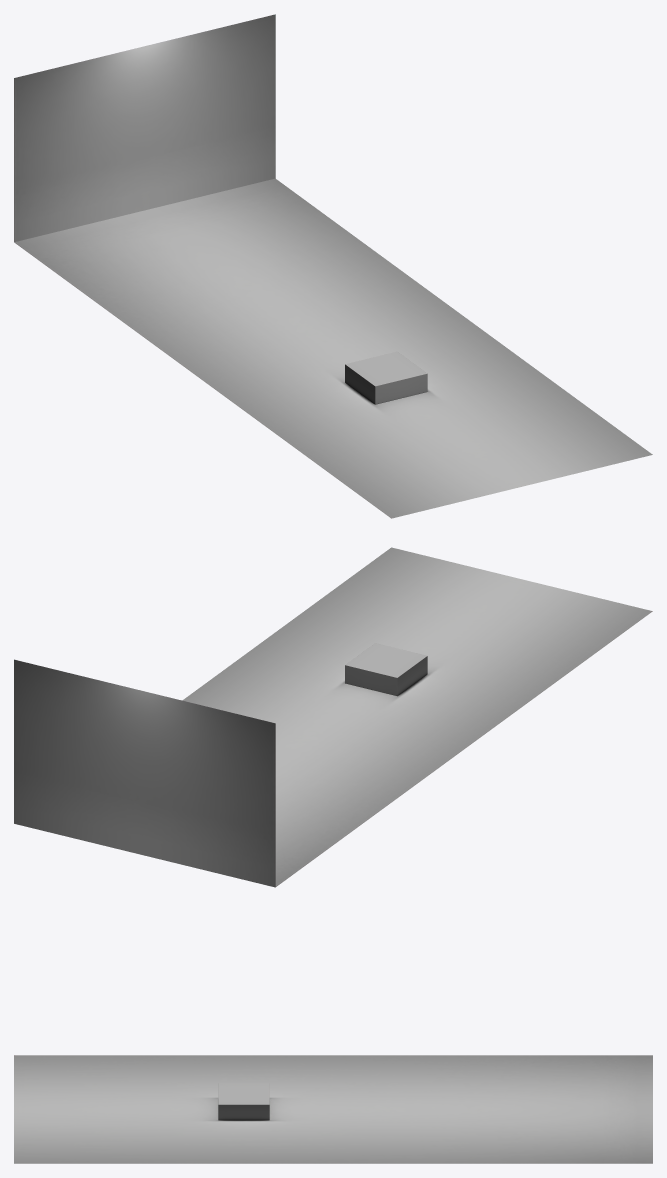
File: VRScene.glb
3 views of the same model, one above another, from view 1: azimuth 30°, elevation 25°; view 2: azimuth 150°, elevation 25°; view 3: azimuth 270°, elevation 25° (orthographic). The views are drawn at different scales.
Visible parts, largest first — view 1: Plane, Cube; view 2: Plane, Cube; view 3: Plane, Cube.
Boxes of the visible parts, x1=… form: Plane: x1=14, y1=14, x2=652, y2=518; Cube: x1=345, y1=351, x2=427, y2=404; Plane: x1=14, y1=547, x2=652, y2=887; Cube: x1=345, y1=643, x2=427, y2=696; Plane: x1=14, y1=1055, x2=652, y2=1163; Cube: x1=218, y1=1083, x2=269, y2=1120.
Size of the model in its own units: 10 by 7.33 by 25.
2 materials, 2 textured.
